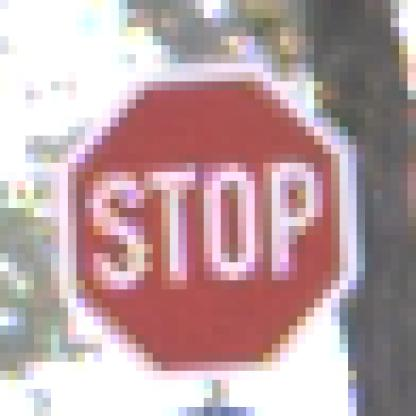stop: (38, 59, 379, 387)
